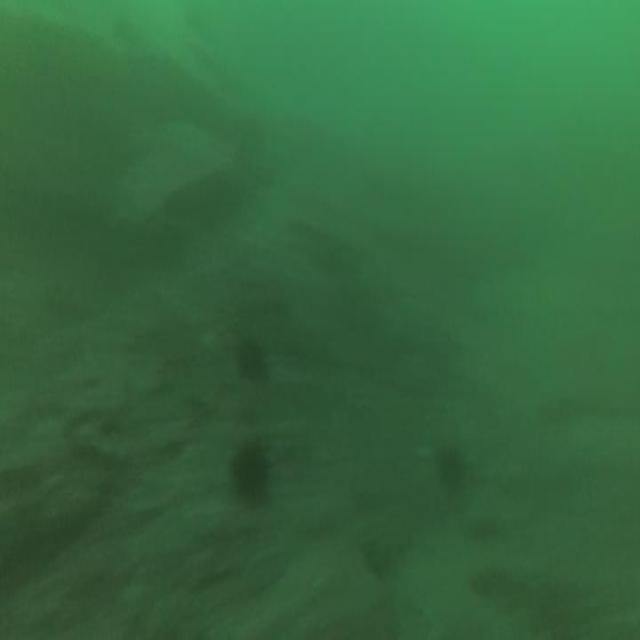echinus: (232, 447, 267, 501), (434, 444, 466, 495), (235, 338, 265, 386)
